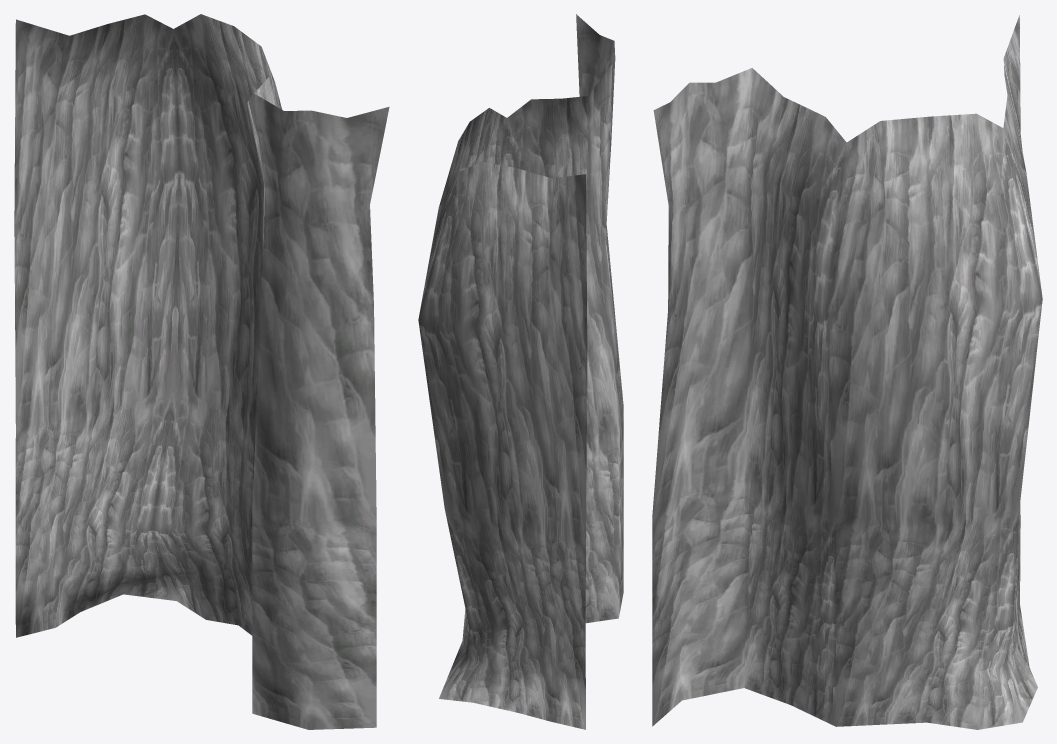
File: SWORDLIGHT20_PS-AREA03_180.fbx
3 renders of one model, left to right at view 1: azimuth 30°, elevation 25°; view 2: azimuth 150°, elevation 25°; view 3: azimuth 270°, elevation 25°, orthographic. The views are drawn at different scales.
Visible parts, largest first — view 1: SWORDLIGHT20_PS-AREA03_180; view 2: SWORDLIGHT20_PS-AREA03_180; view 3: SWORDLIGHT20_PS-AREA03_180.
Boxes of the visible parts, left/top/right/bottom form: SWORDLIGHT20_PS-AREA03_180: left=14, top=14, right=389, bottom=729; SWORDLIGHT20_PS-AREA03_180: left=418, top=14, right=623, bottom=729; SWORDLIGHT20_PS-AREA03_180: left=652, top=15, right=1042, bottom=729.
Bounding box in the file's own units: 53329 × 151940 × 84983.
Materials: 1 (1 with a texture image).
